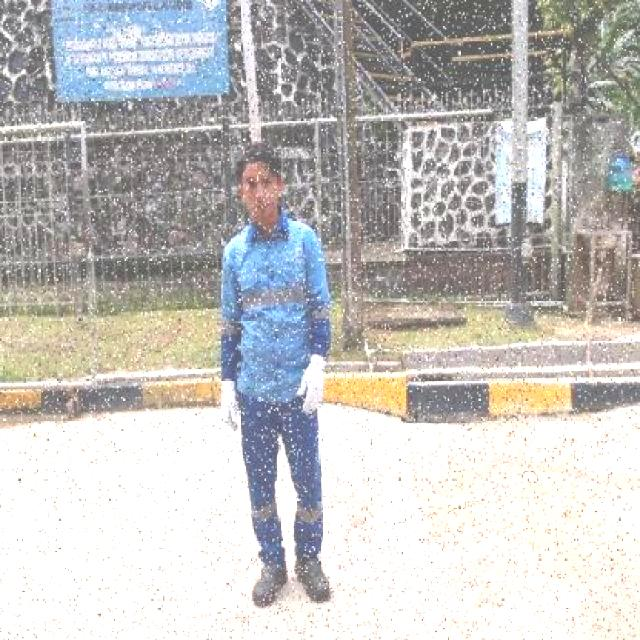Boots: (288, 546, 337, 608), (248, 552, 292, 612)
Gloves: (294, 342, 334, 416), (213, 372, 244, 436)
